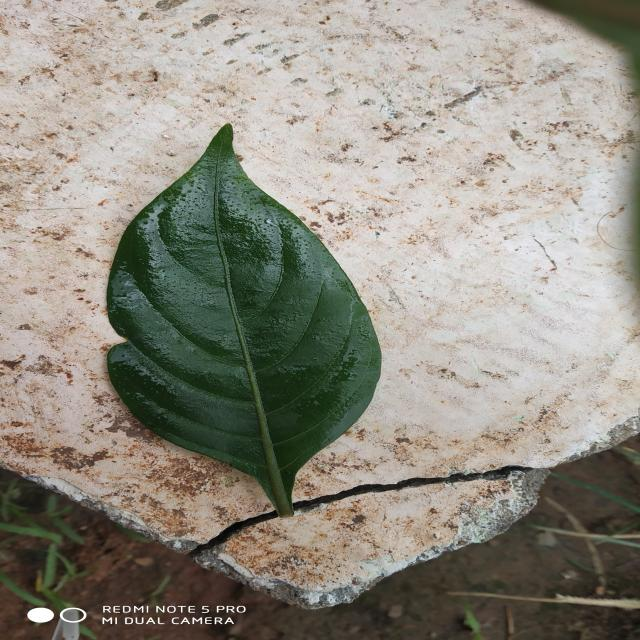ganike: (107, 124, 380, 518)
